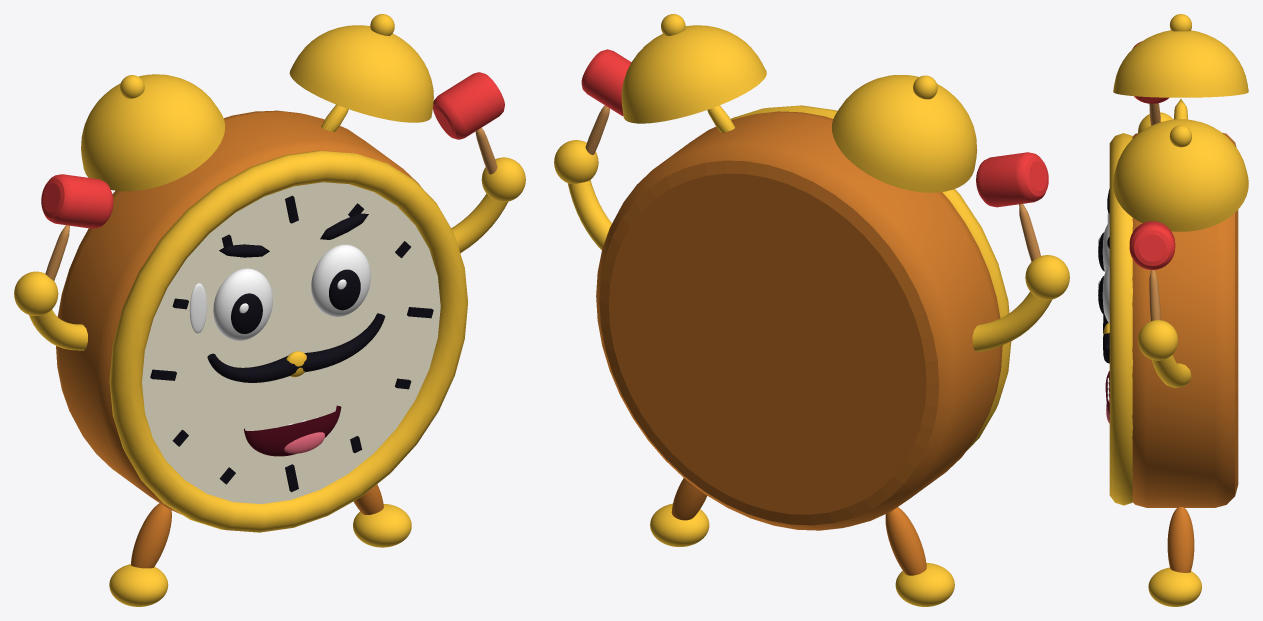
3 renders of one model, left to right at view 1: azimuth 30°, elevation 25°; view 2: azimuth 150°, elevation 25°; view 3: azimuth 270°, elevation 25°, orthographic. The views are drawn at different scales.
Visible parts, largest first — view 1: d_dial, bezel, case, bell-1, bell1, mallet-1, mallet1, Eye0W, Eye1W, foot-1, mouth, foot1 (+10 smaller); view 2: case, bell-1, bell1, mallet-1, bezel, arm-1, mallet1, foot-1, leg-1, foot1, fist-1, arm1 (+2 smaller); view 3: case, bell1, bezel, bell-1, mallet1, foot1, leg1, fist1, arm1, malletStick1, bellKnob1, Eye1W (+5 smaller).
Boxes of the visible parts, left/top/right/bottom form: d_dial: left=142, top=182, right=440, bottom=503; bezel: left=109, top=150, right=467, bottom=532; case: left=56, top=110, right=420, bottom=514; bell-1: left=81, top=74, right=225, bottom=191; bell1: left=289, top=25, right=433, bottom=122; mallet-1: left=41, top=174, right=113, bottom=228; mallet1: left=433, top=72, right=504, bottom=139; Eye0W: left=213, top=268, right=272, bottom=340; Eye1W: left=311, top=244, right=370, bottom=316; foot-1: left=109, top=564, right=168, bottom=606; mouth: left=244, top=405, right=341, bottom=456; foot1: left=353, top=504, right=411, bottom=547; case: left=596, top=111, right=1002, bottom=530; bell-1: left=832, top=75, right=977, bottom=192; bell1: left=621, top=25, right=766, bottom=123; mallet-1: left=976, top=152, right=1048, bottom=207; bezel: left=730, top=105, right=1011, bottom=450; arm-1: left=972, top=291, right=1052, bottom=352; mallet1: left=581, top=49, right=631, bottom=116; foot-1: left=895, top=563, right=954, bottom=606; leg-1: left=885, top=507, right=926, bottom=575; foot1: left=650, top=503, right=709, bottom=546; fist-1: left=1025, top=255, right=1069, bottom=299; arm1: left=568, top=180, right=611, bottom=249; case: left=1132, top=132, right=1238, bottom=507; bell1: left=1113, top=119, right=1248, bottom=231; bezel: left=1109, top=133, right=1132, bottom=505; bell-1: left=1113, top=30, right=1248, bottom=97; mallet1: left=1129, top=221, right=1175, bottom=269; foot1: left=1148, top=567, right=1201, bottom=606; leg1: left=1167, top=507, right=1194, bottom=572; fist1: left=1138, top=320, right=1178, bottom=360; arm1: left=1151, top=355, right=1191, bottom=387; malletStick1: left=1149, top=270, right=1160, bottom=321; bellKnob1: left=1169, top=125, right=1191, bottom=147; Eye1W: left=1102, top=265, right=1109, bottom=323.
Size of the model in its own units: 4.65 by 4.62 by 1.32.
